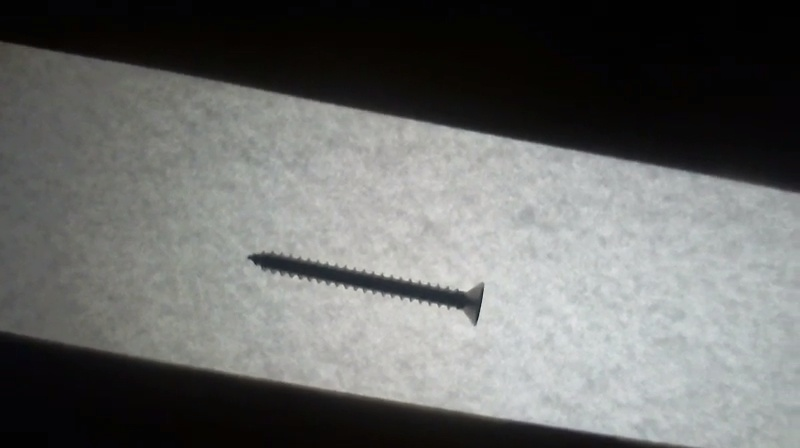S002: (243, 248, 487, 327)
